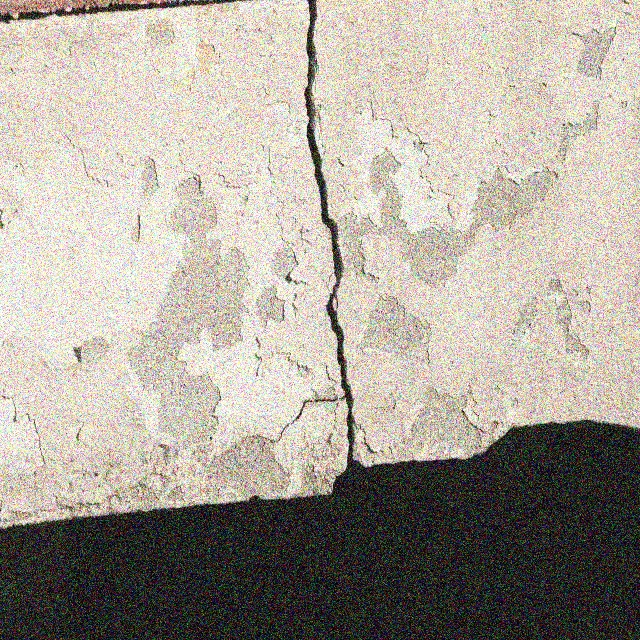SurfaceCrack: (246, 1, 442, 486)
